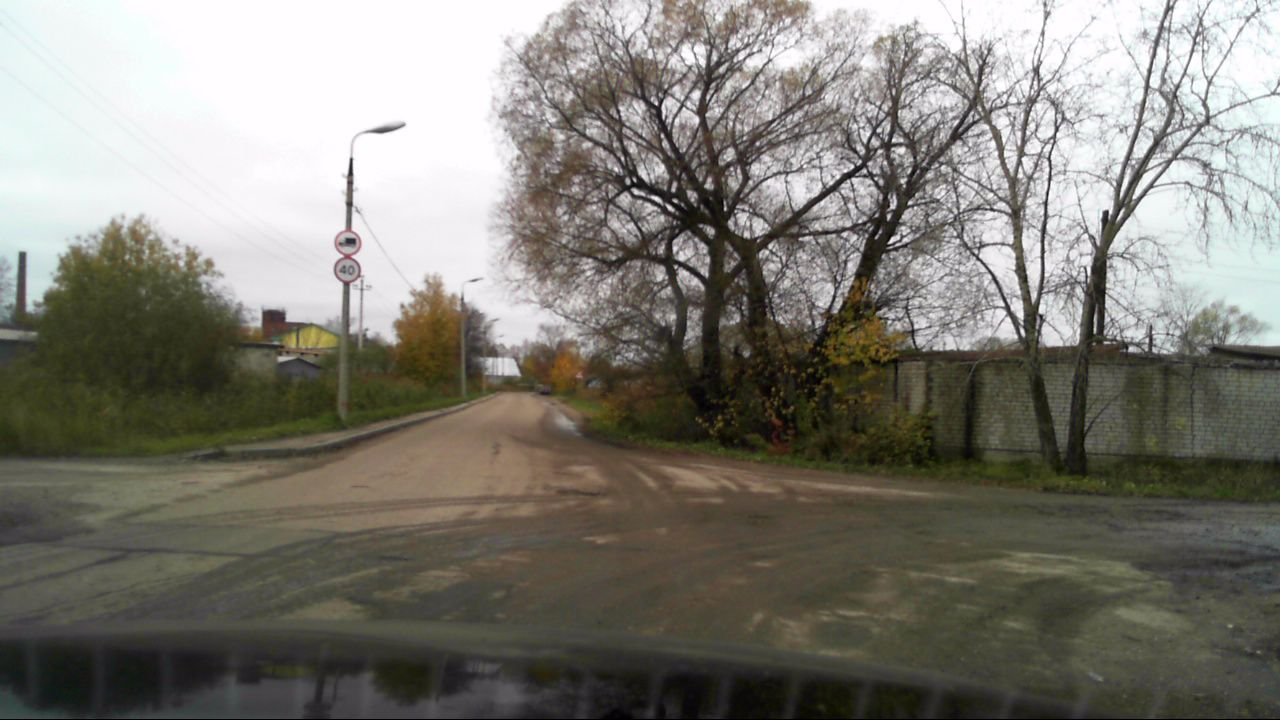speed_warning_40: (333, 257, 361, 283)
